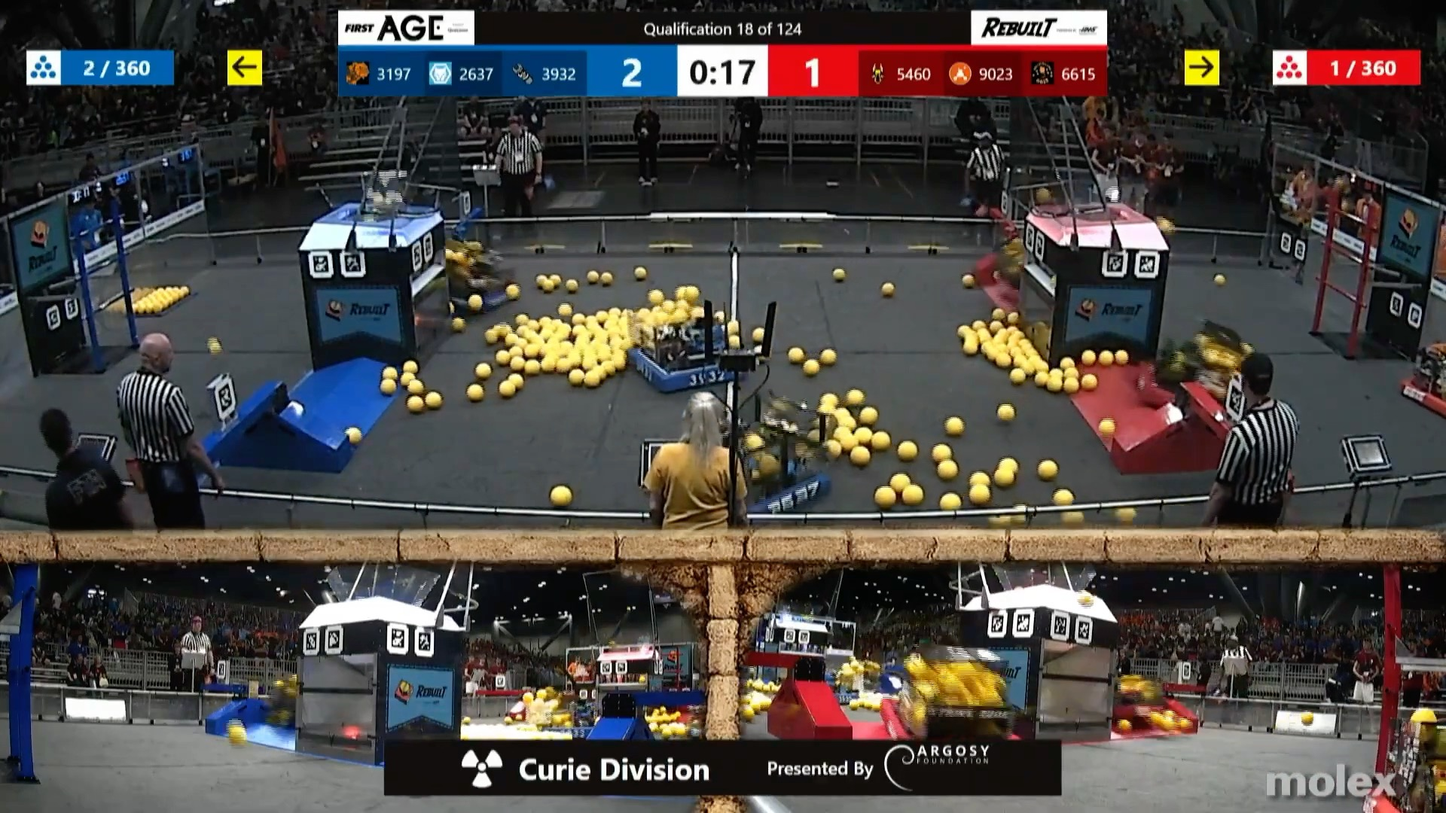bumpers: (682, 452, 836, 510), (1130, 357, 1255, 423), (874, 693, 1028, 745), (617, 344, 741, 392), (1388, 365, 1446, 427), (414, 285, 520, 317), (1362, 784, 1446, 813)
